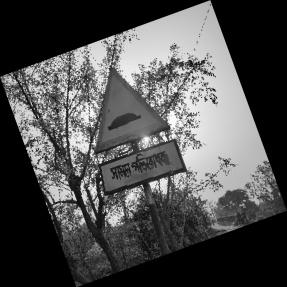Speed-breaker: (93, 65, 183, 195)
